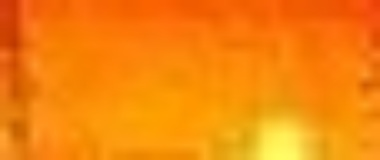Hotspot: (255, 114, 314, 160)
